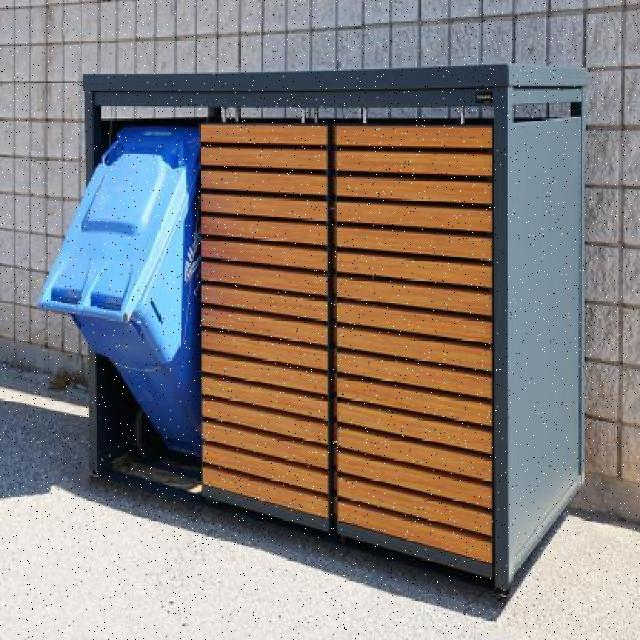garbage container: (35, 117, 202, 486)
